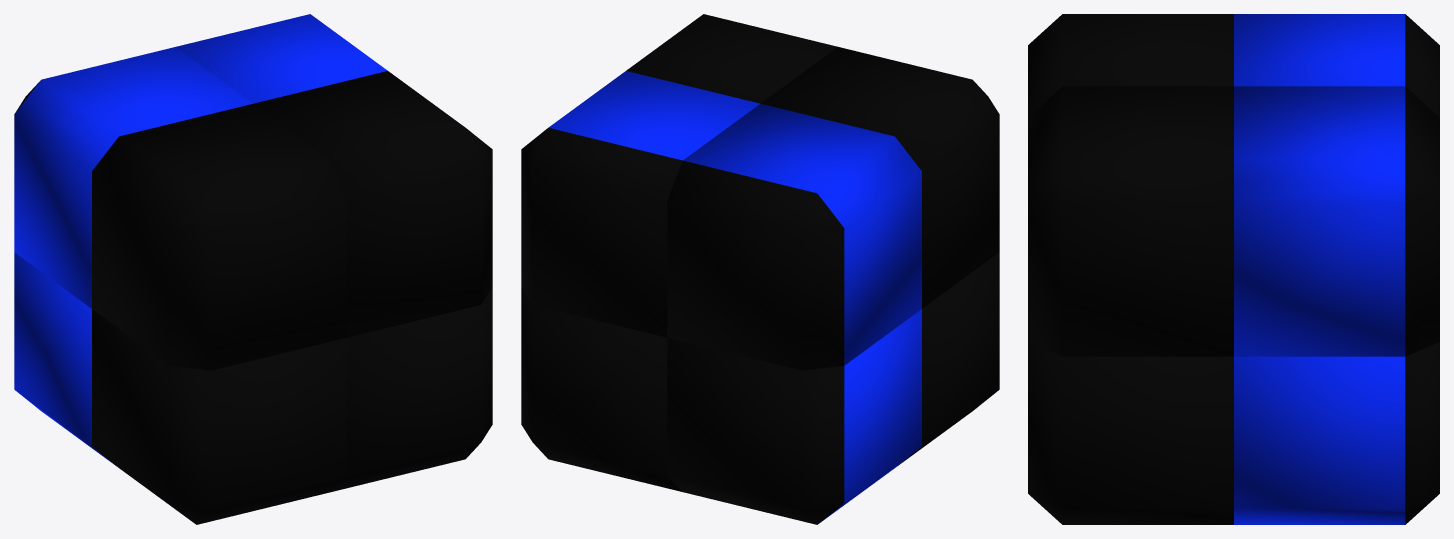
File: Attachment_Laser.fbx
3 views of the same model, side by side, from view 1: azimuth 30°, elevation 25°; view 2: azimuth 150°, elevation 25°; view 3: azimuth 270°, elevation 25° (orthographic). The views are drawn at different scales.
Parts seen in each view (by area): view 1: Attachment_Laser; view 2: Attachment_Laser; view 3: Attachment_Laser.
Part boxes in pixels (left/top/right/bottom): Attachment_Laser: left=14, top=14, right=492, bottom=524; Attachment_Laser: left=521, top=14, right=999, bottom=524; Attachment_Laser: left=1028, top=14, right=1439, bottom=524.
Bounding box in the file's own units: 0.8304 × 0.8142 × 0.8304.
